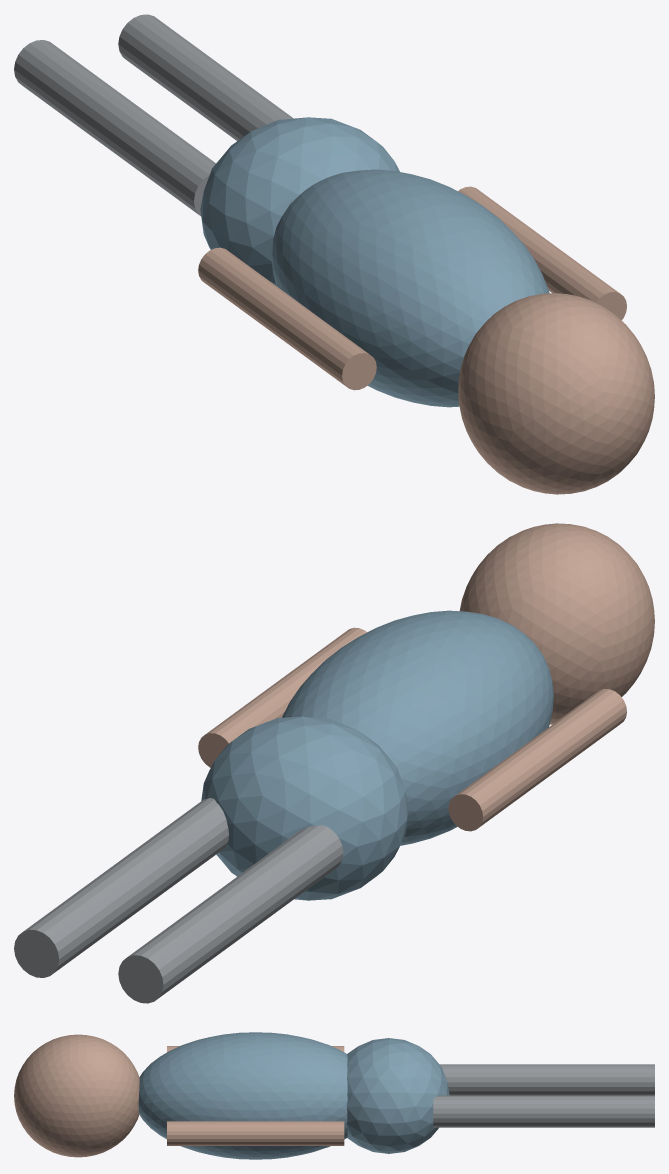
The model's file is adolescent-high.glb.
3 views of the same model, one above another, from view 1: azimuth 30°, elevation 25°; view 2: azimuth 150°, elevation 25°; view 3: azimuth 270°, elevation 25° (orthographic). The views are drawn at different scales.
Parts seen in each view (by area): view 1: torso, head, pelvis, left_leg, right_leg, left_arm, right_arm; view 2: torso, pelvis, head, left_leg, right_leg, left_arm, right_arm; view 3: torso, head, pelvis, right_leg, left_leg, right_arm.
Part boxes in pixels (box(x1,y1,x2,y2)): torso: box(271, 169, 549, 407); head: box(458, 293, 654, 494); pelvis: box(200, 117, 399, 285); left_leg: box(14, 40, 215, 216); right_leg: box(118, 14, 293, 140); left_arm: box(198, 247, 376, 390); right_arm: box(458, 186, 626, 320); torso: box(282, 610, 553, 845); pelvis: box(201, 716, 408, 900); head: box(459, 523, 654, 724); left_leg: box(118, 825, 343, 1003); right_leg: box(14, 798, 228, 977); left_arm: box(448, 689, 626, 831); right_arm: box(198, 627, 367, 767); torso: box(138, 1032, 347, 1159); head: box(14, 1034, 139, 1157); pelvis: box(346, 1038, 449, 1153); right_leg: box(433, 1095, 654, 1127); left_leg: box(440, 1064, 654, 1095); right_arm: box(167, 1121, 344, 1145).
Size of the model in its own units: 0.9512 by 0.5808 by 3.01.
